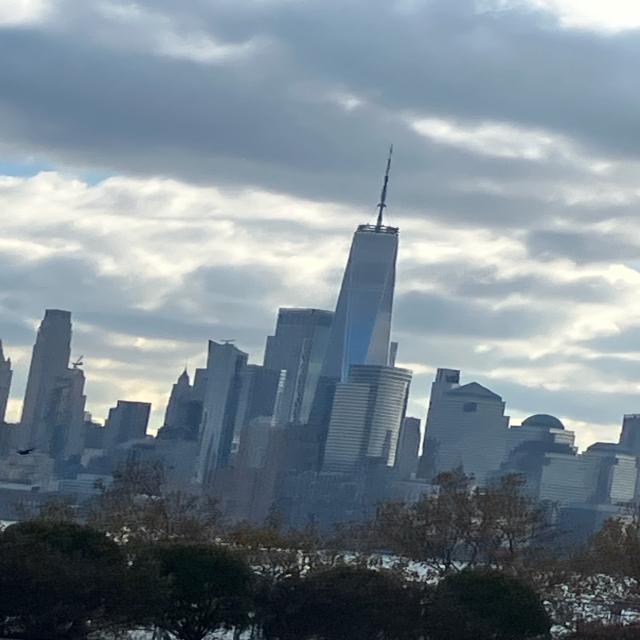WTC: (319, 141, 409, 381)
